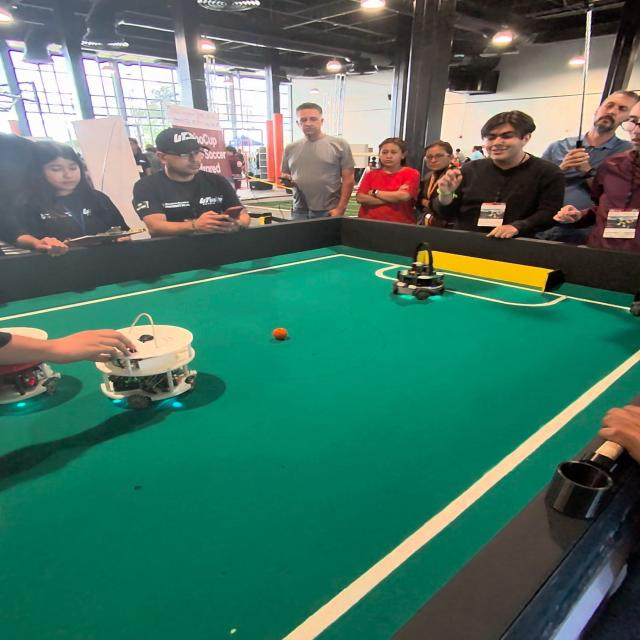Robot: (100, 312, 216, 420), (0, 313, 80, 405), (394, 242, 450, 306)
pelota: (273, 328, 287, 338)
